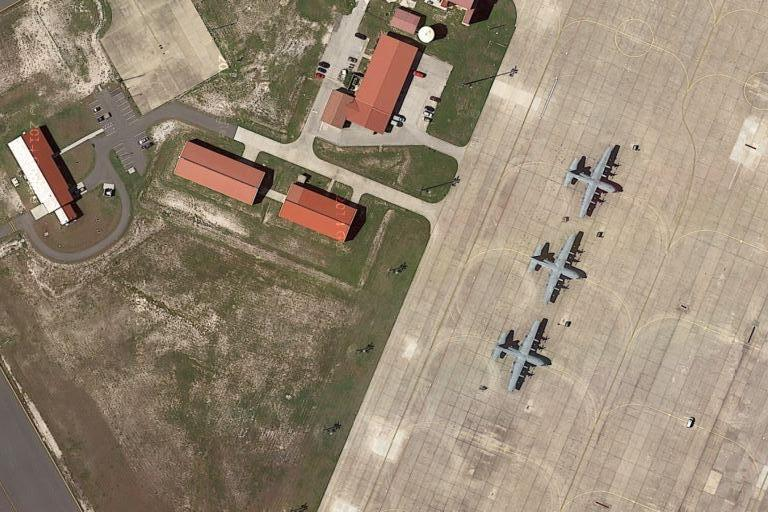C-130: (560, 139, 632, 223), (486, 315, 560, 396), (526, 228, 597, 305)
